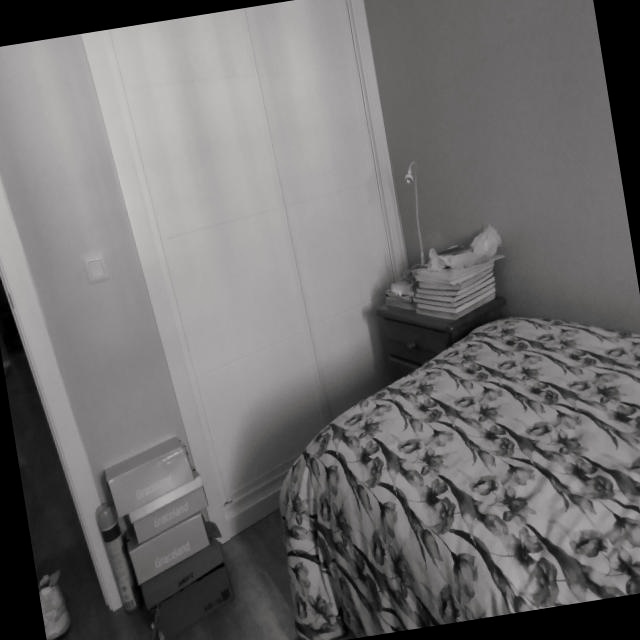bed: (280, 317, 640, 640)
lamp: (403, 162, 424, 262)
nighttable: (372, 297, 506, 381)
toilet: (81, 0, 406, 544)
